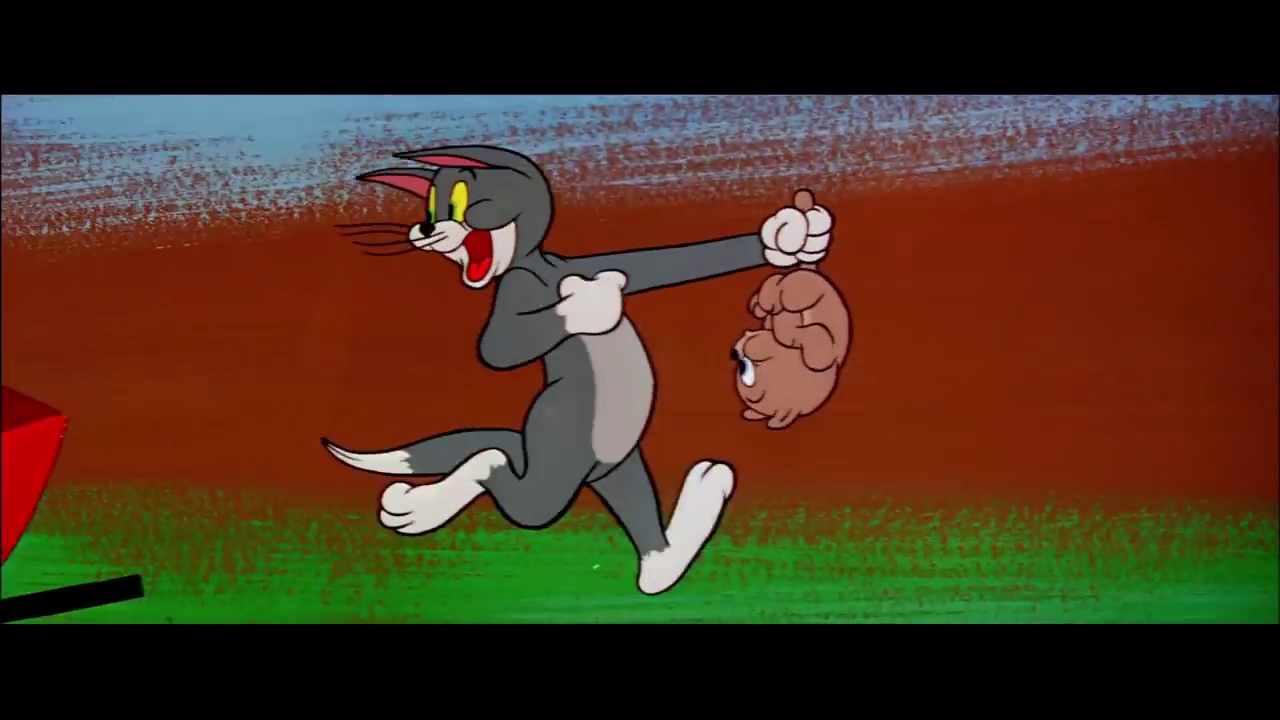tom: (355, 144, 566, 287)
